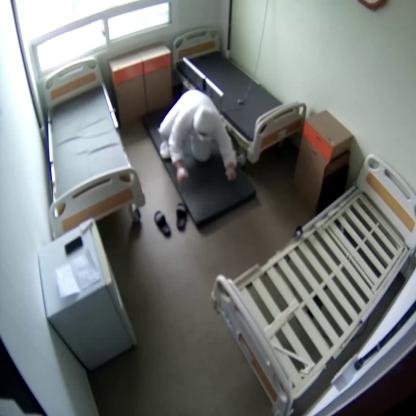Bed: (172, 27, 306, 164)
Person: (158, 90, 237, 183)
